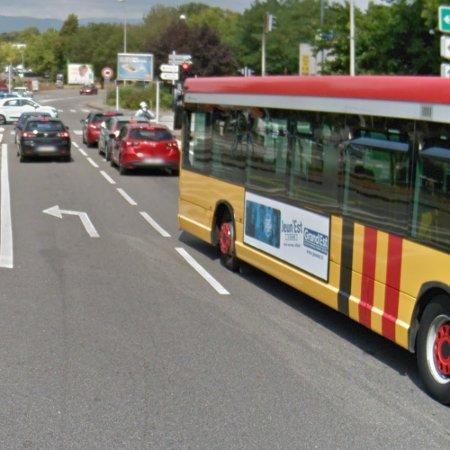buses: (180, 76, 450, 403)
